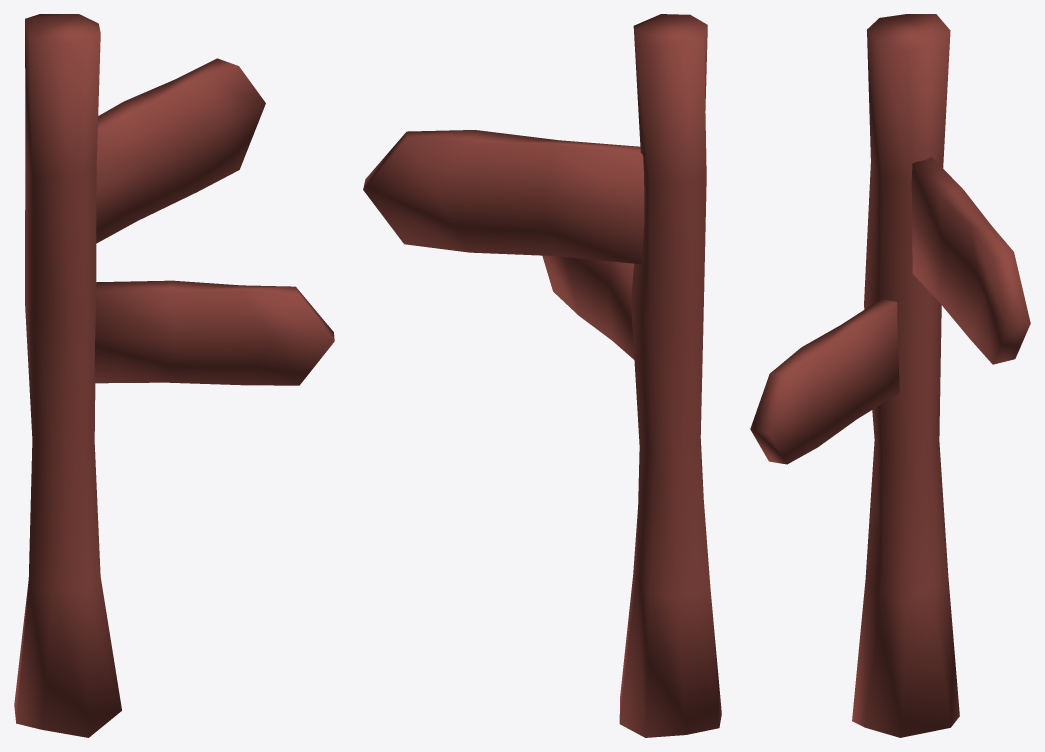
Rendered from Sign_tall.fbx.
3 renders of one model, left to right at view 1: azimuth 30°, elevation 25°; view 2: azimuth 150°, elevation 25°; view 3: azimuth 270°, elevation 25°, orthographic.
Visible parts, largest first — view 1: Sign_tall; view 2: Sign_tall; view 3: Sign_tall.
Boxes of the visible parts, left/top/right/bottom form: Sign_tall: left=14, top=14, right=334, bottom=737; Sign_tall: left=363, top=14, right=721, bottom=737; Sign_tall: left=750, top=14, right=1030, bottom=737.
Size of the model in its own units: 139 by 306 by 112.
